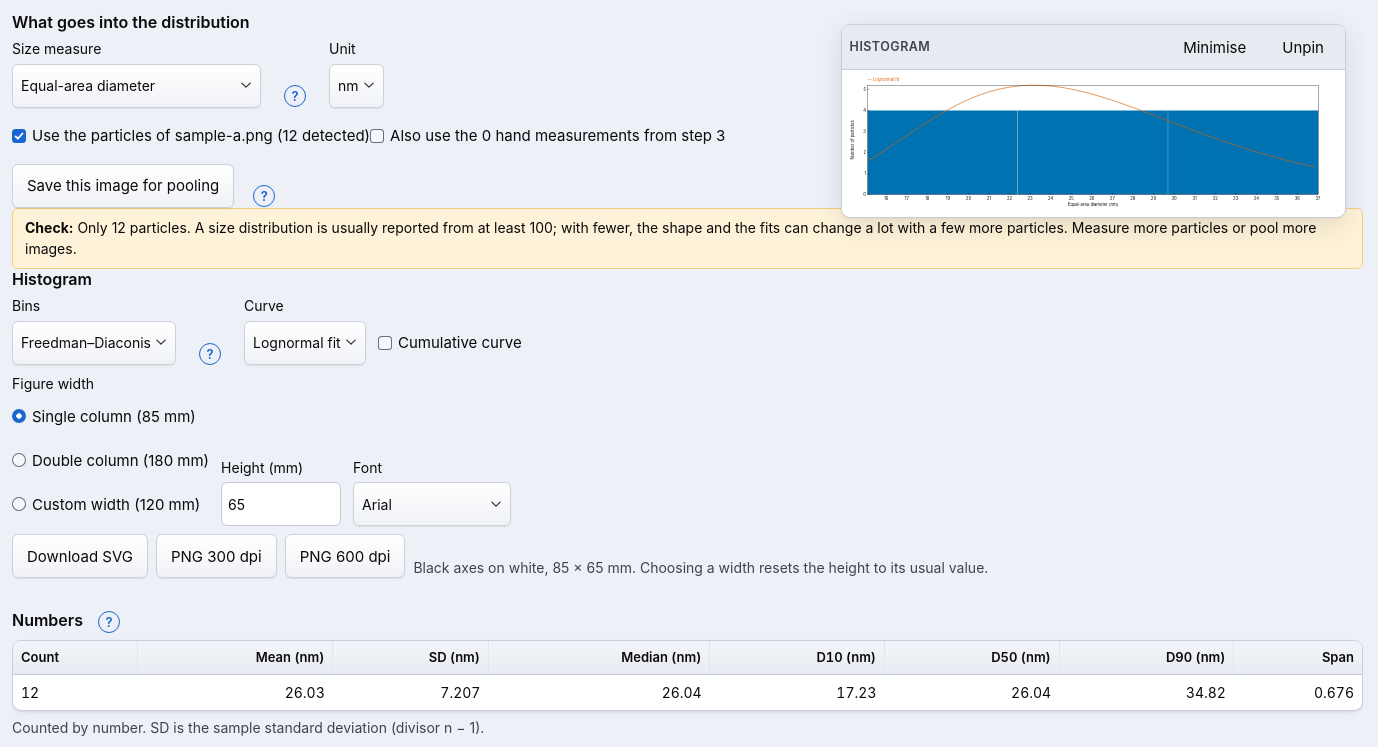
it: distribution step, 19f additions › lets the exported histogram have a free height
The width and height of the screenshot is (1378, 747).
Replace the text in the number field labelled "Height (mm)" with "120" at [281, 504], box [221, 482, 341, 526]
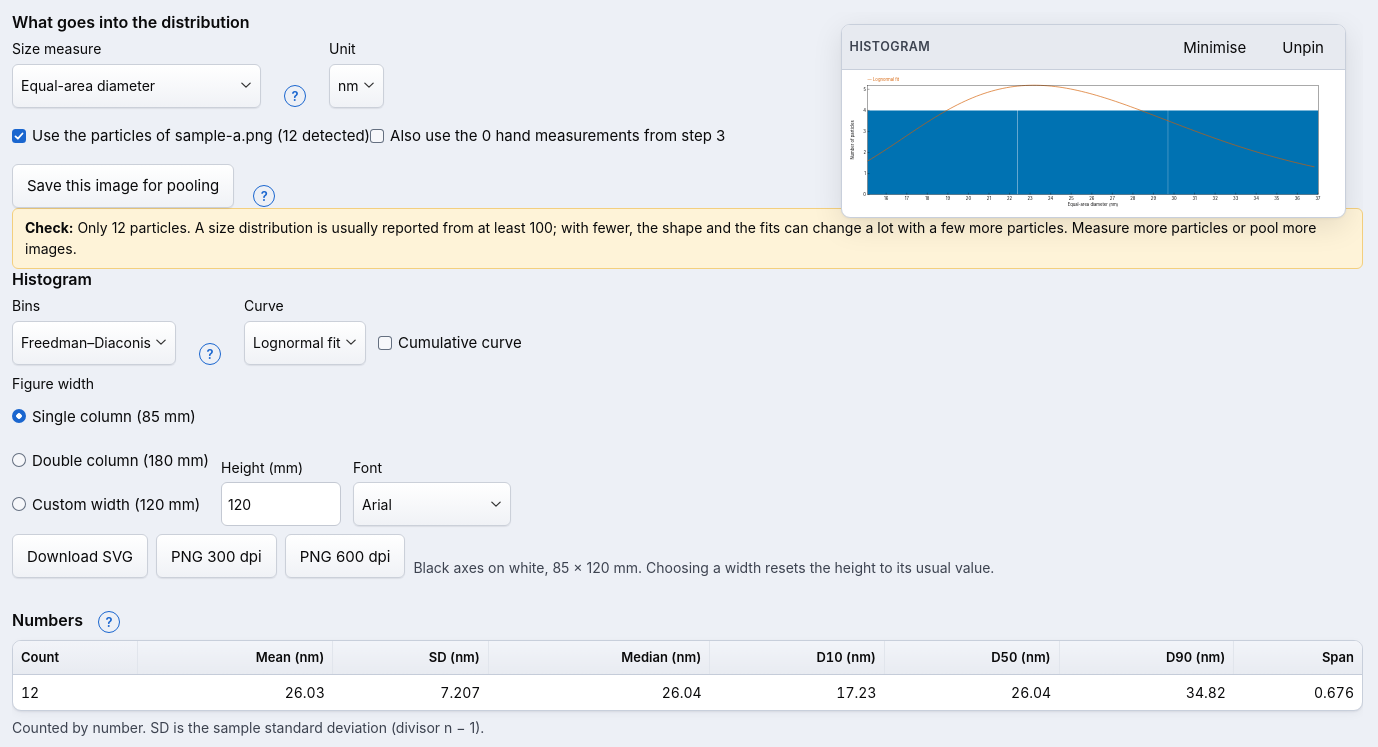
Now the text "85 × 120 mm" is shown, box [413, 559, 994, 576]
Replace the text in the number field labelled "Height (mm)" with "5" at [281, 504], box [221, 482, 341, 526]
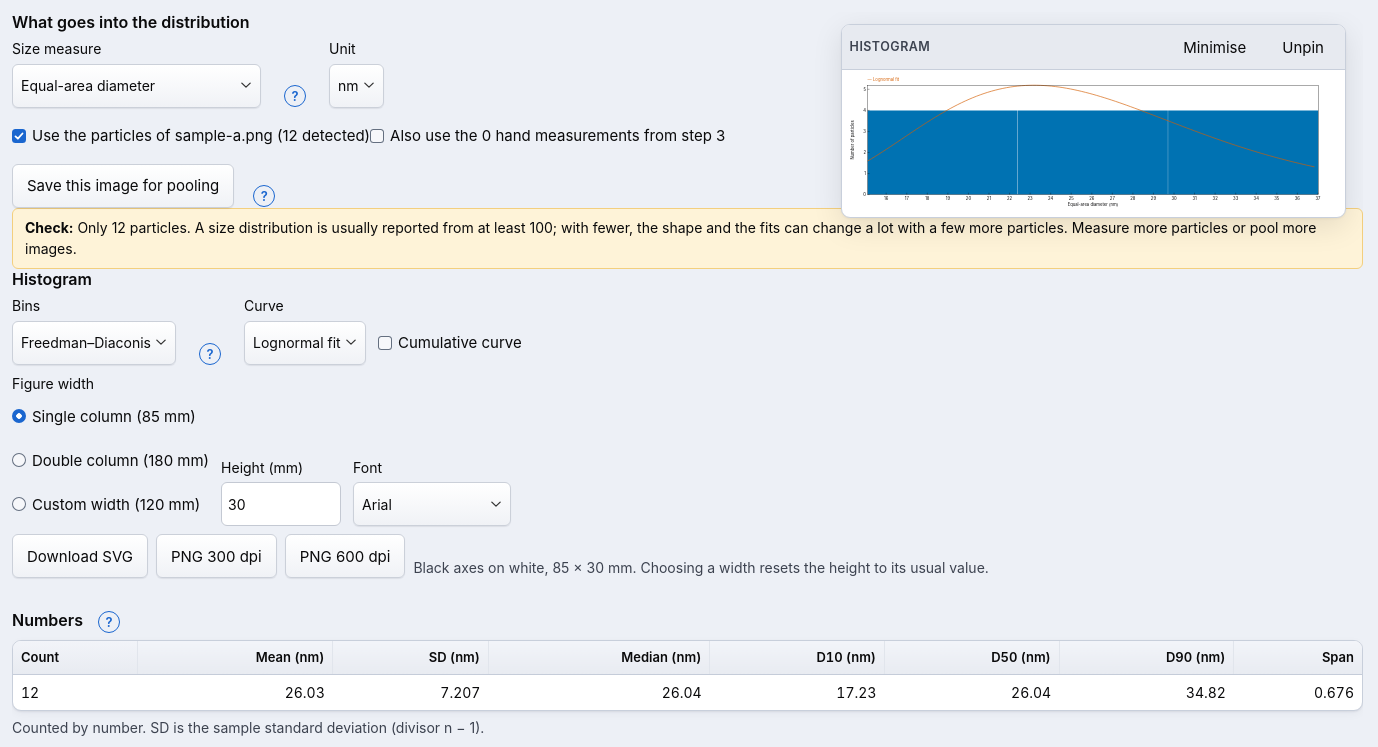
Now the number field labelled "Height (mm)" holds "30", box [221, 482, 341, 526]
